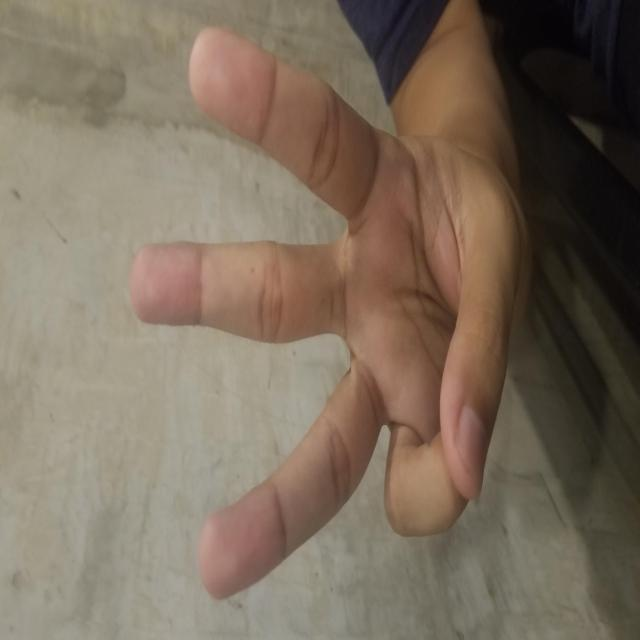W: (40, 128, 614, 527)
